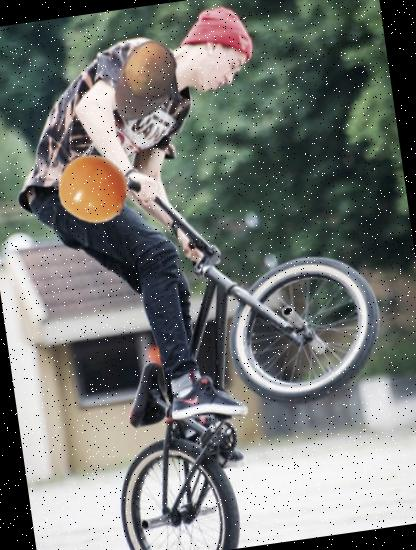Hazelnut: (95, 32, 192, 130)
Physalis: (54, 148, 132, 228)
